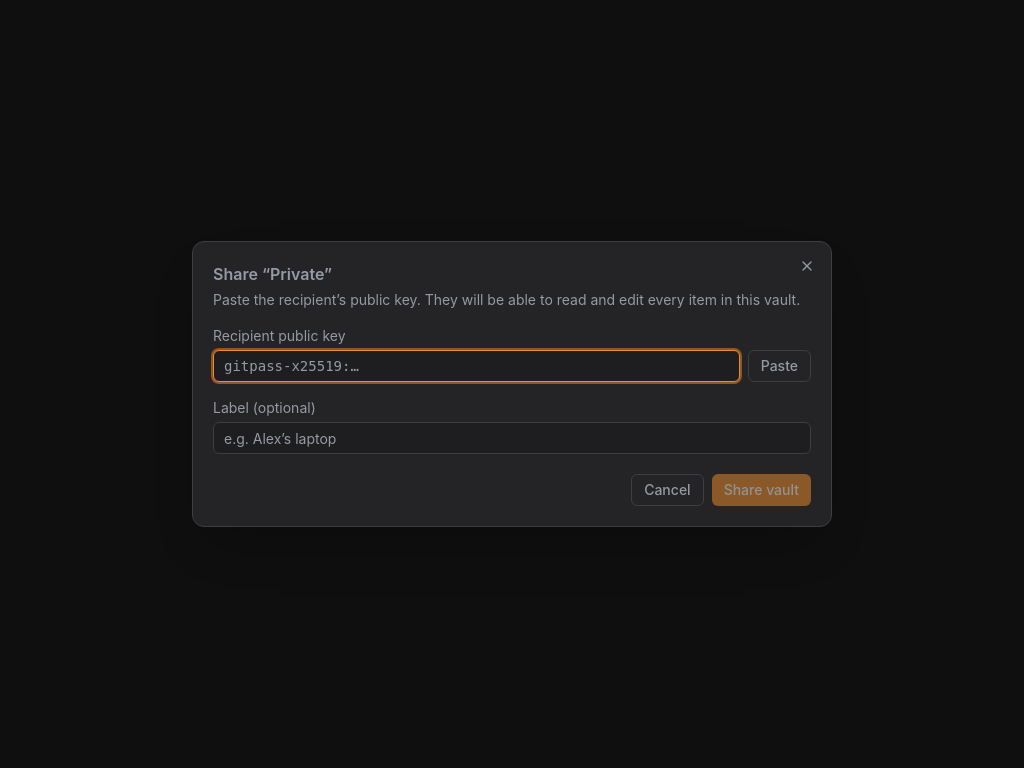
Test: ShareDialog › resets confirmation when the key changes
This screenshot has width=1024, height=768.
Type "gitpass-x25519:AQIDBAUGBwgJCgsMDQ4PEBESExQVFhcYGRobHB0eHyA=" into the field with placeholder "gitpass-x25519:…" at {"x": 476, "y": 366}, box [213,350,740,382]
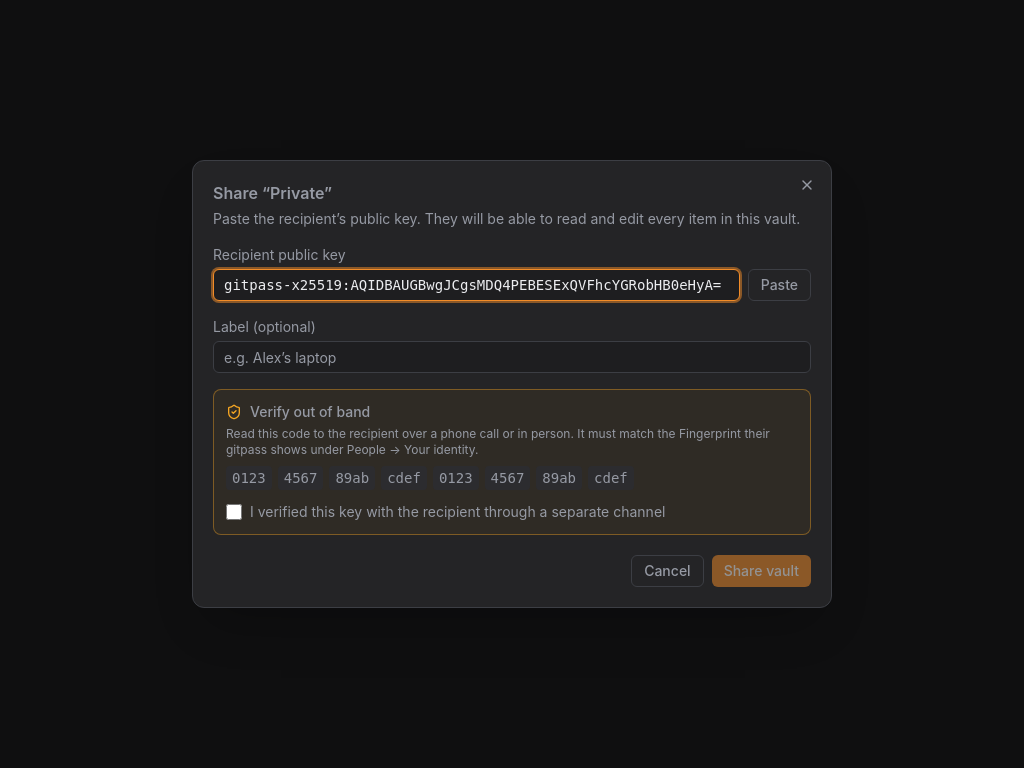
Click the checkbox at {"x": 234, "y": 512}, box [226,504,242,520]
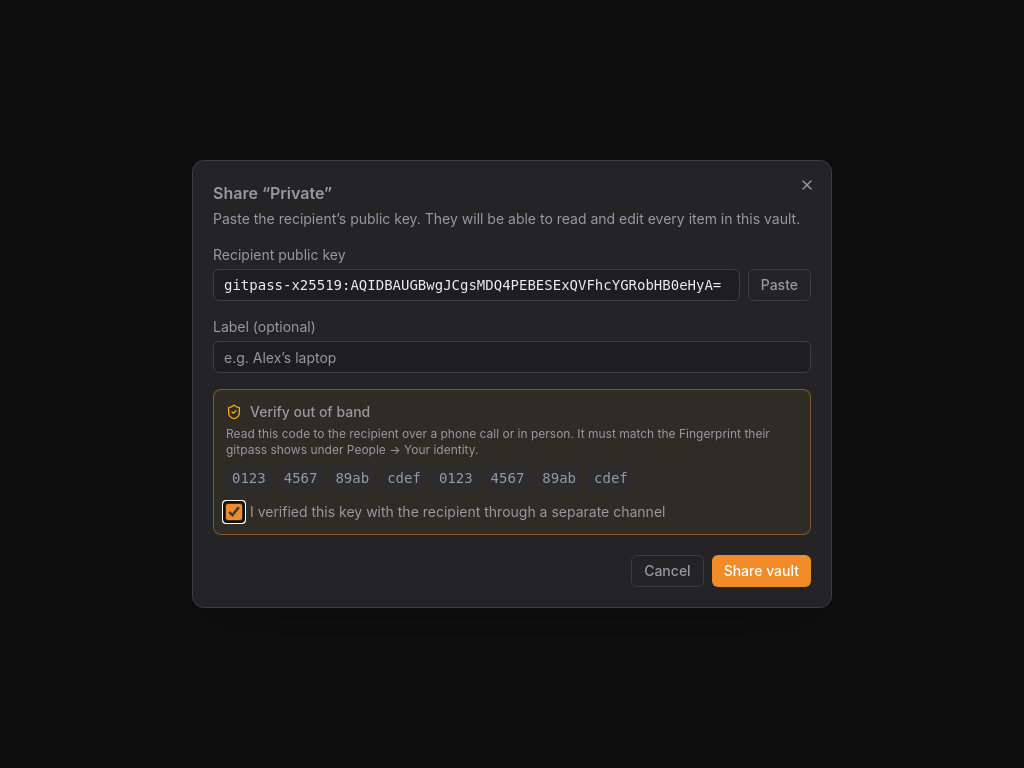
Type "x" into the field with placeholder "gitpass-x25519:…" at {"x": 476, "y": 285}, box [213,269,740,301]
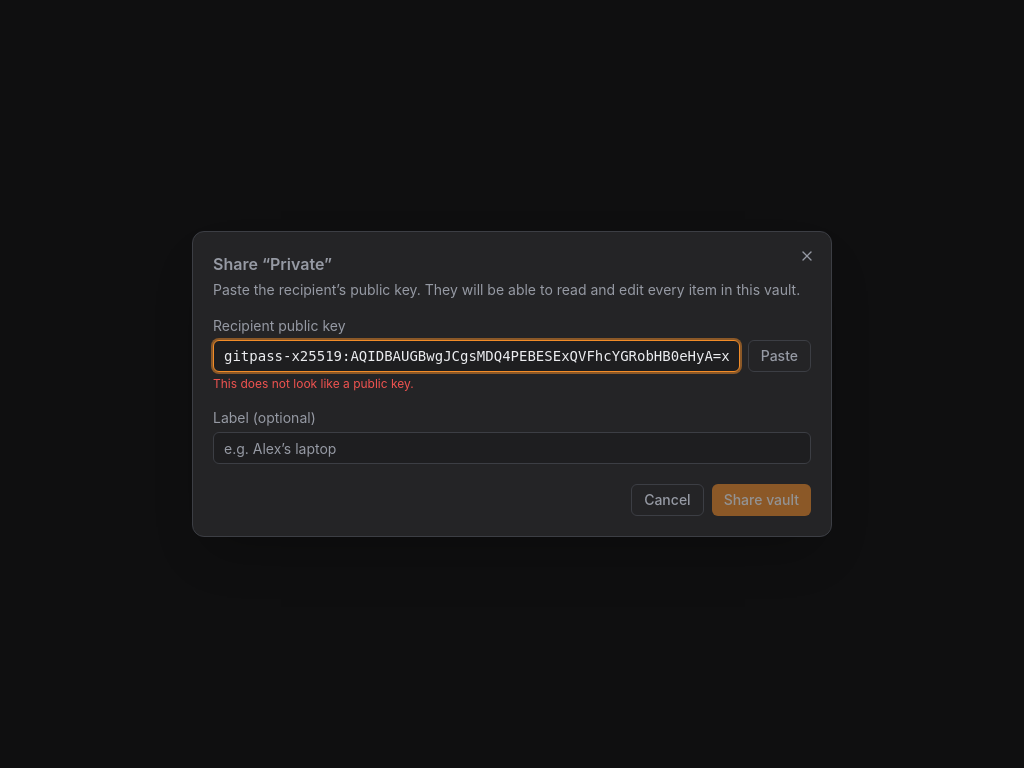
Check: the button with test id "share-submit" is disabled, box [712,484,811,516]
Clear the field with placeholder "gitpass-x25519:…" at {"x": 476, "y": 356}, box [213,340,740,372]
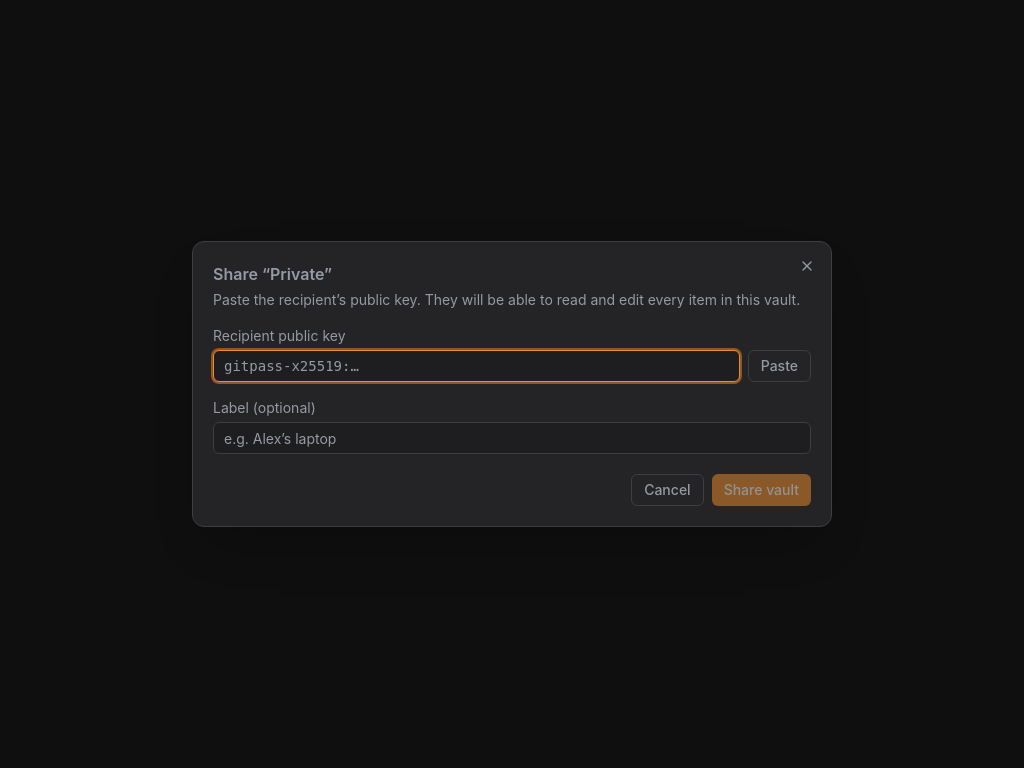
Type "gitpass-x25519:AQIDBAUGBwgJCgsMDQ4PEBESExQVFhcYGRobHB0eHyA=" into the field with placeholder "gitpass-x25519:…" at {"x": 476, "y": 366}, box [213,350,740,382]
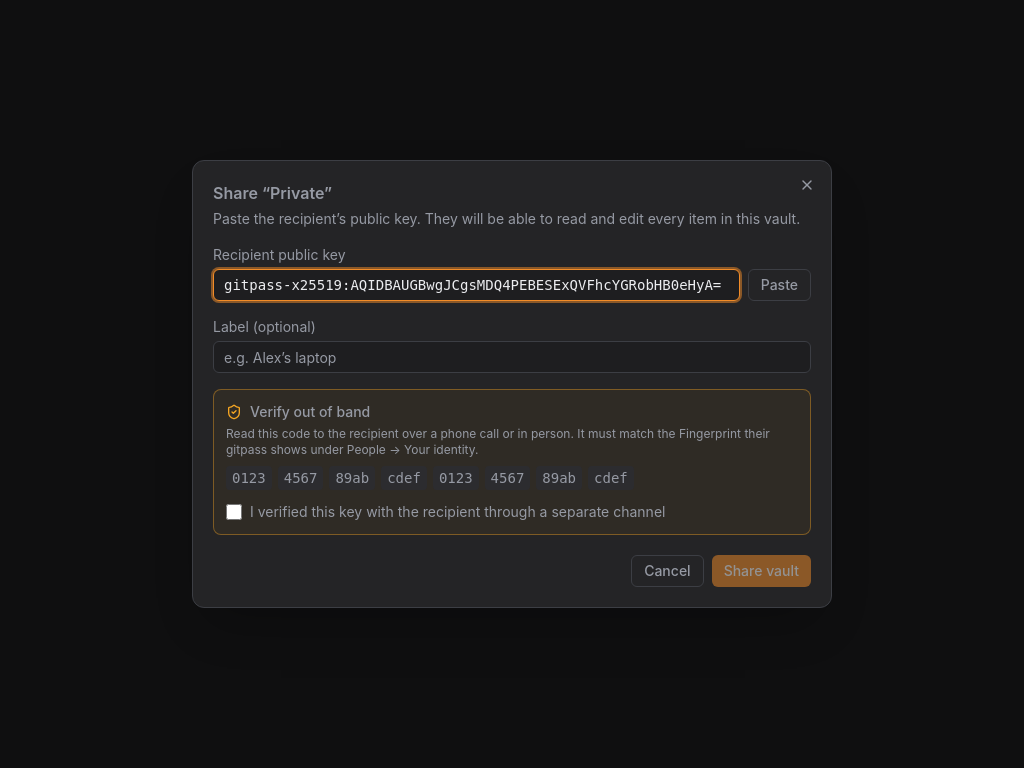
Check: the button with test id "share-submit" is disabled, box [712,555,811,587]
Check: the checkbox is not checked, box [226,504,242,520]
